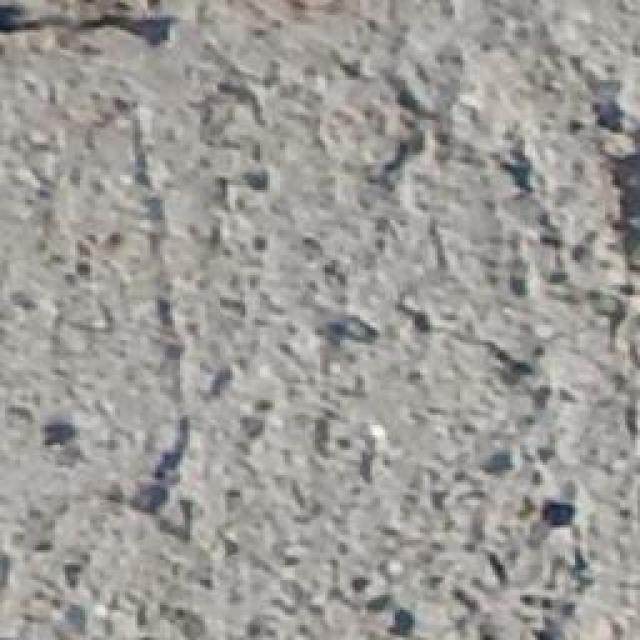concrete-crack: (292, 34, 640, 435), (0, 1, 185, 50), (594, 139, 640, 277)
